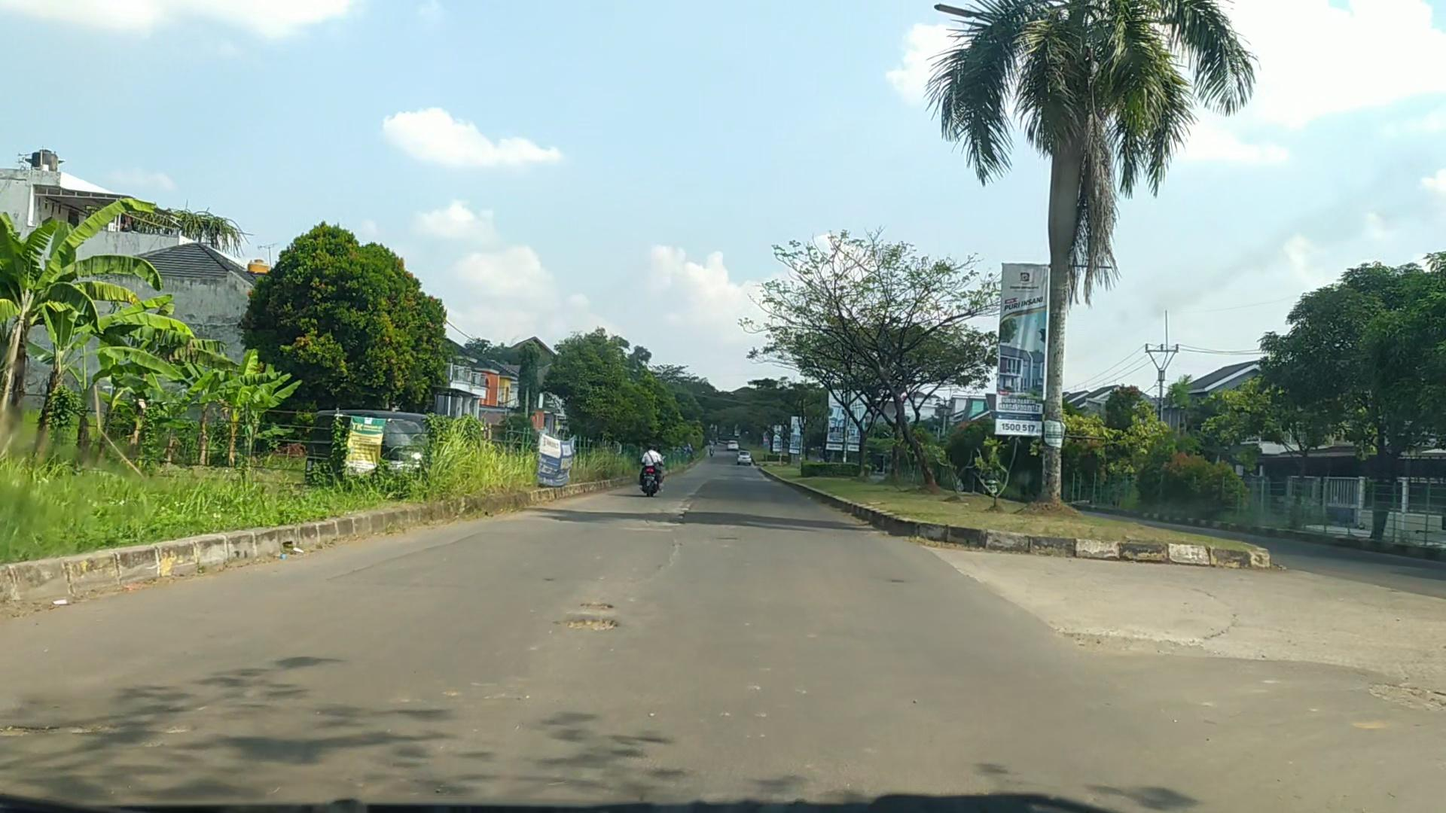pothole: (555, 615, 619, 633), (576, 601, 614, 611)
